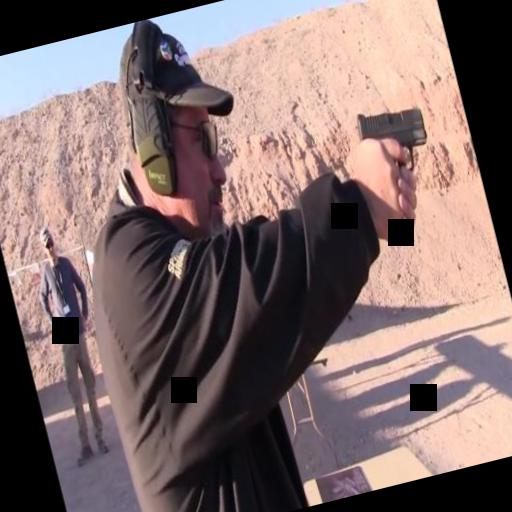Handgun: (351, 96, 455, 245)
